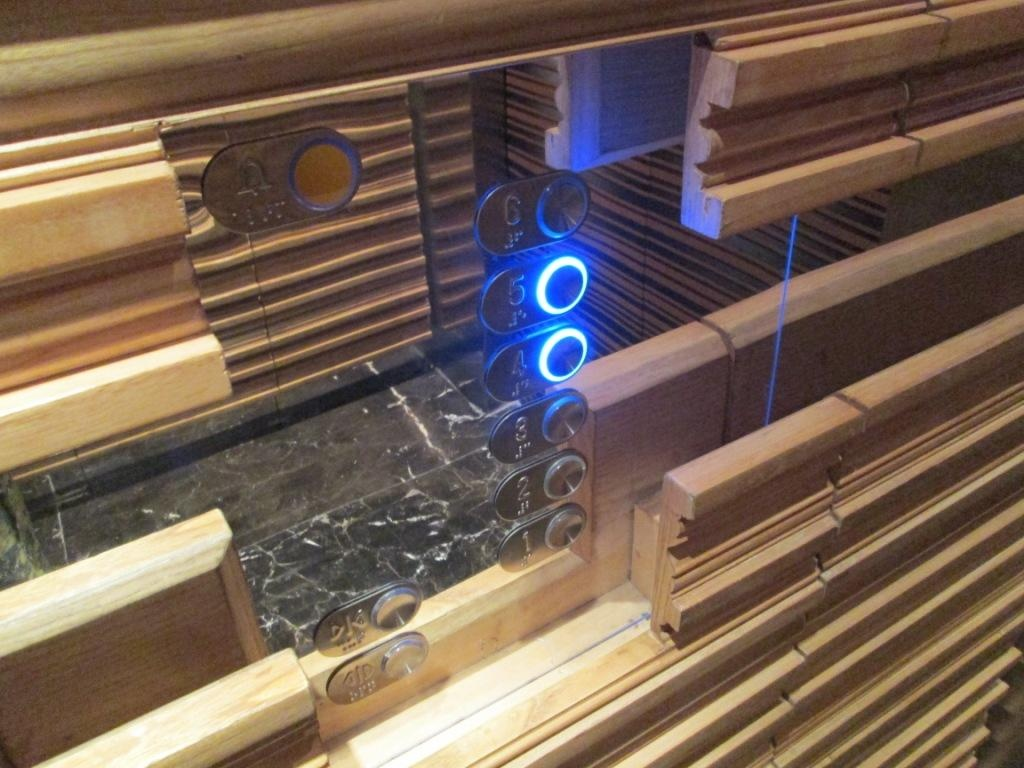1: (497, 501, 593, 573)
2: (494, 448, 591, 522)
3: (487, 386, 593, 464)
4: (484, 319, 592, 404)
5: (477, 249, 593, 333)
6: (475, 167, 591, 254)
alarm: (202, 121, 363, 233)
close: (312, 577, 425, 658)
open: (322, 627, 429, 709)
